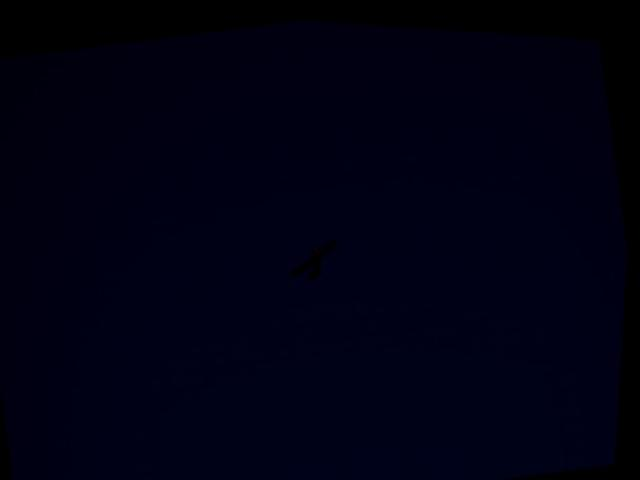iha: (284, 232, 346, 285)
